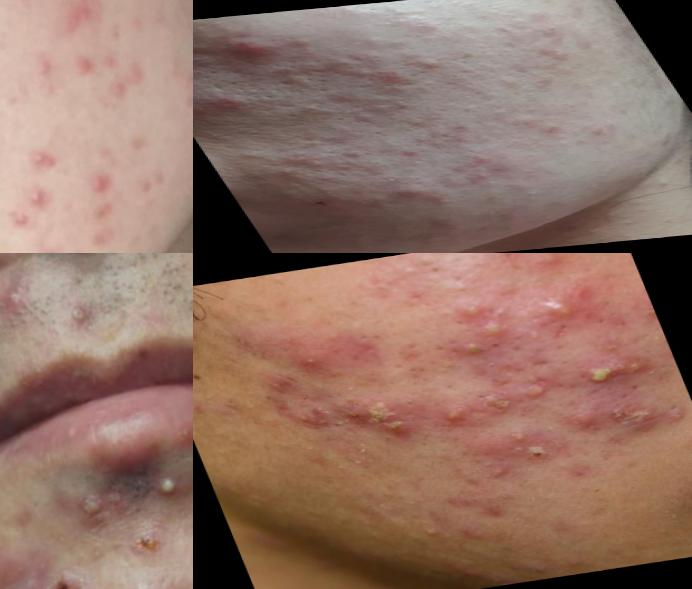blackhead: (292, 60, 333, 75), (360, 56, 400, 70), (330, 146, 367, 161), (330, 58, 363, 74)
papular: (67, 198, 141, 254), (270, 341, 347, 386), (97, 56, 156, 110), (498, 254, 590, 287), (196, 34, 293, 60), (58, 1, 117, 40), (76, 159, 116, 208), (500, 71, 579, 93), (170, 59, 194, 123), (24, 53, 62, 93), (132, 164, 172, 202), (1, 283, 36, 325), (570, 407, 613, 441), (397, 53, 456, 75), (379, 181, 435, 204), (66, 47, 102, 82), (203, 92, 252, 111), (531, 46, 576, 62), (33, 236, 71, 254), (461, 152, 503, 168), (439, 121, 481, 135), (476, 163, 513, 178), (268, 166, 308, 179), (532, 123, 569, 137), (3, 1, 49, 11), (393, 147, 427, 159), (514, 188, 547, 199)
purulent: (406, 522, 459, 556), (14, 145, 60, 178), (152, 467, 188, 508), (21, 178, 57, 213), (9, 203, 42, 234), (76, 490, 107, 522), (541, 301, 574, 323), (451, 303, 487, 323), (480, 323, 507, 348), (501, 426, 532, 447), (454, 346, 487, 365), (66, 304, 91, 328)
sebo-crystan-conglo: (335, 388, 430, 449), (114, 519, 181, 576), (577, 354, 667, 394), (443, 392, 537, 430), (619, 399, 680, 442), (1, 551, 65, 589), (41, 561, 97, 589)
whitehead: (326, 89, 421, 130), (359, 5, 449, 35), (560, 135, 594, 149)
